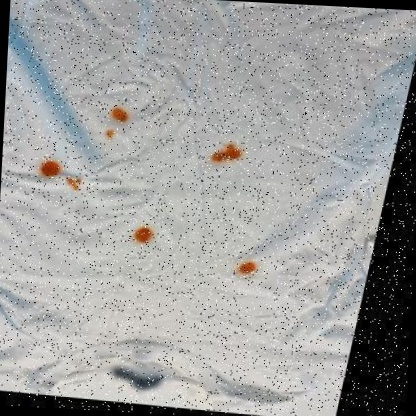kimchi: (211, 138, 246, 172), (41, 153, 65, 183), (132, 220, 157, 247), (109, 105, 131, 128), (67, 172, 86, 192), (240, 261, 258, 278), (103, 131, 116, 141)
